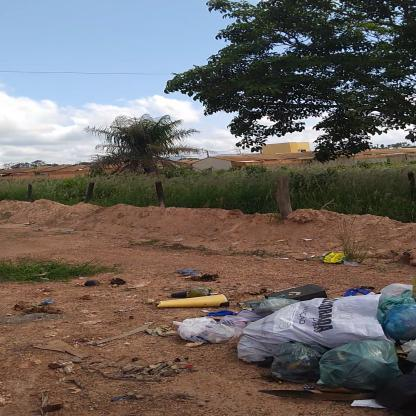lixo: (154, 287, 416, 405)
